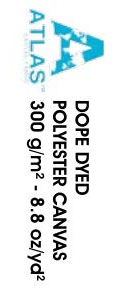-: (35, 186, 37, 190)
300: (30, 101, 44, 132)
8.8: (30, 198, 44, 223)
ATLAS: (30, 10, 45, 83)
CANVAS: (53, 192, 67, 260)
DOPE: (75, 101, 89, 145)
DYED: (75, 153, 89, 195)
POLYESTER: (53, 101, 67, 186)
g/m?: (27, 138, 44, 179)
oz/yd?: (27, 229, 45, 281)
